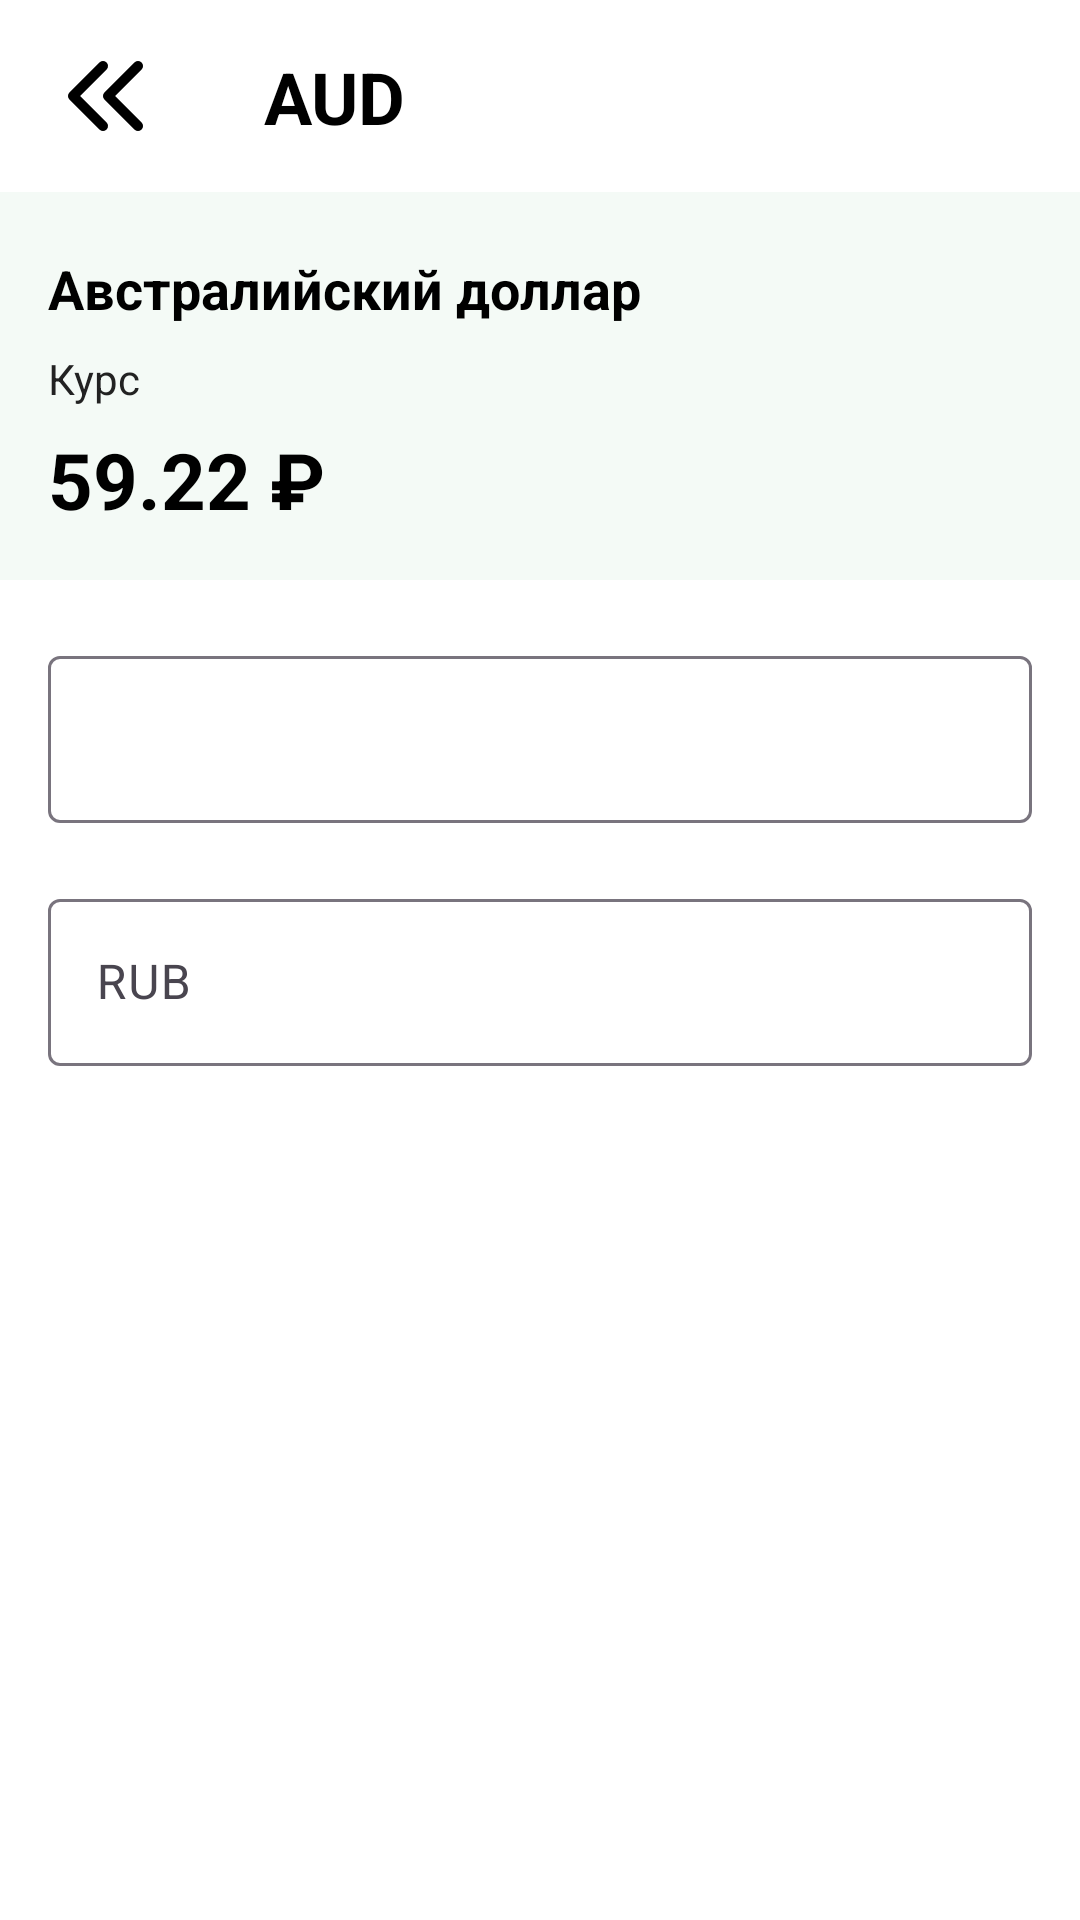

Screen size 1080 × 1920. Icon name, then its center in pixels as (x=x, y=y):
arrow back double: (x=105, y=96)
